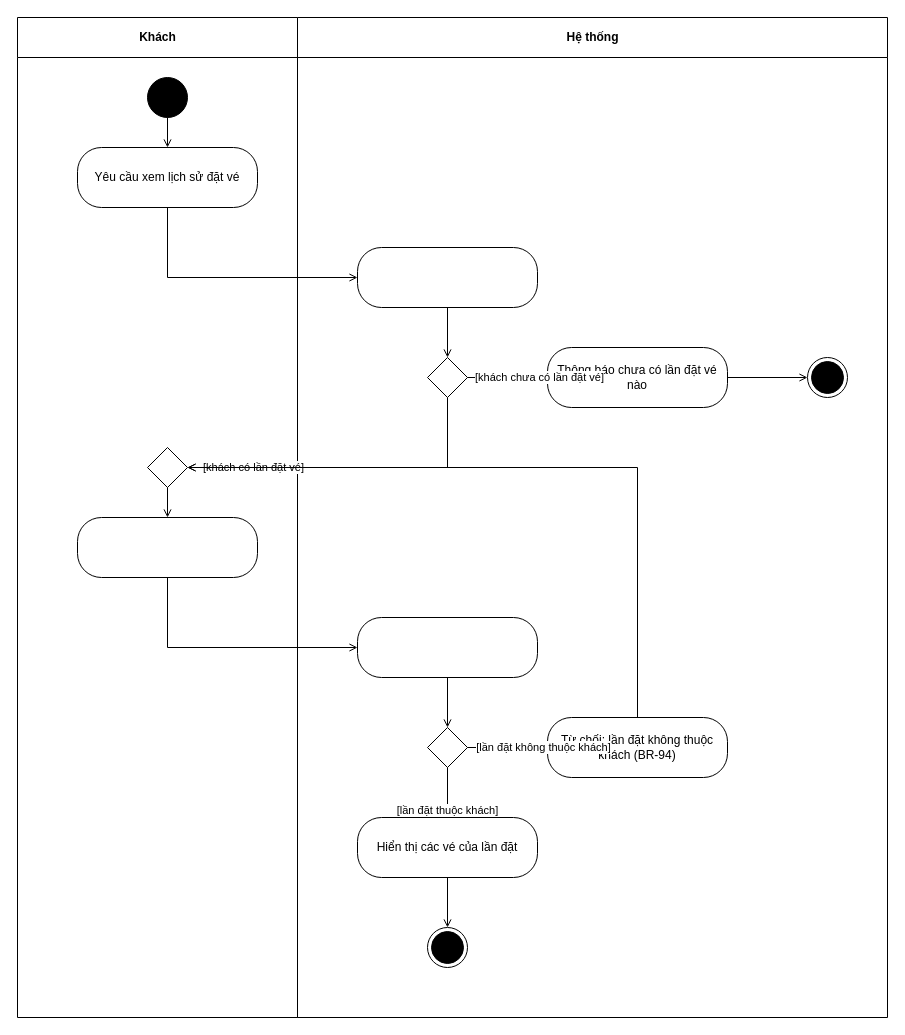
The diagram is 905 pixels wide and 1035 high, and some of its shapes have lost their labels. Each missing label, with the box of its shape:
Chọn một lần đặt vé: (76, 516, 258, 578)
Hiển thị các lần đặt vé của khách: (356, 246, 538, 308)
Kiểm tra lần đặt thuộc khách: (356, 616, 538, 678)
